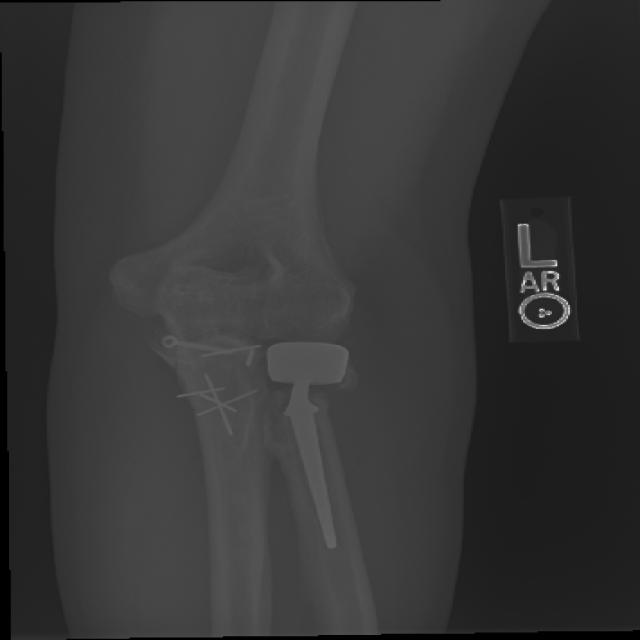elbow positive: (248, 355, 375, 432)
